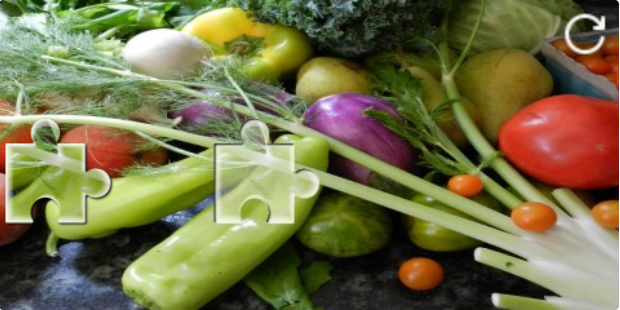target: (214, 120, 318, 225)
